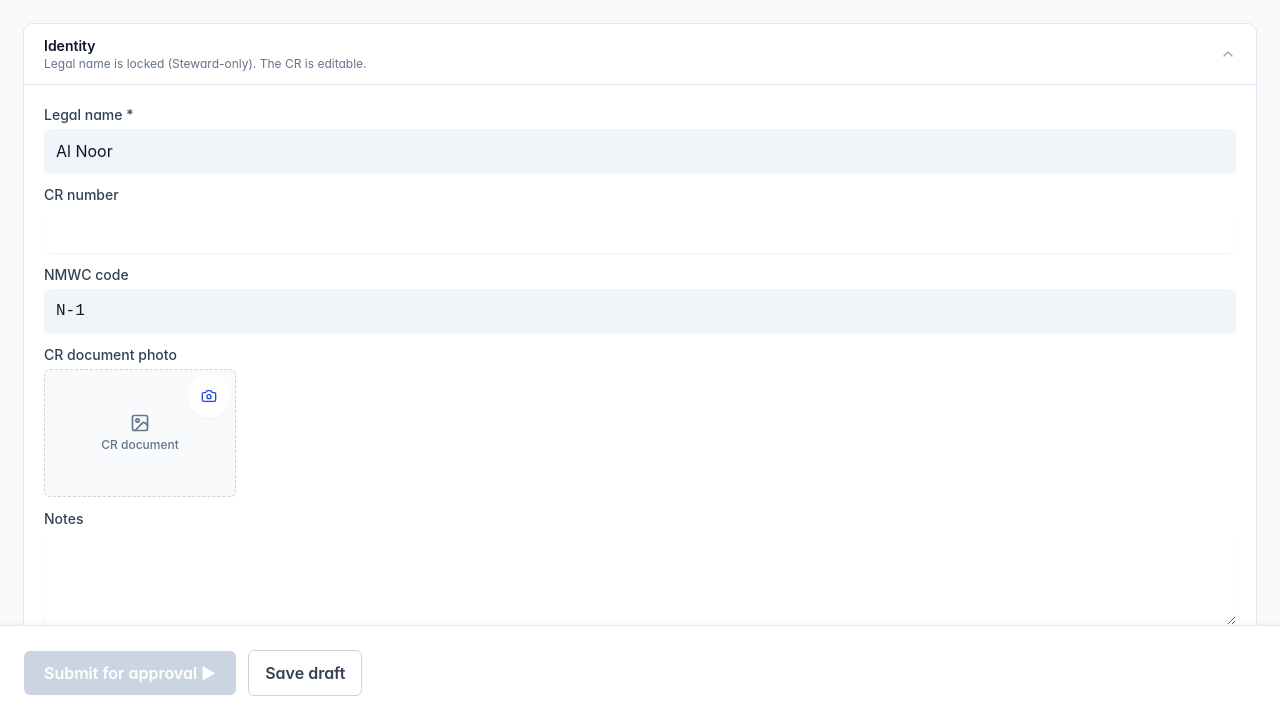
Test: the customer update form › with only a close pending, "Draft saved" promises nothing about replacing it
The image size is (1280, 720).
What coordinates should you click on to do the following:
click the button "Save draft"
I would click on:
 (305, 673)
Its box is [248, 650, 362, 696].
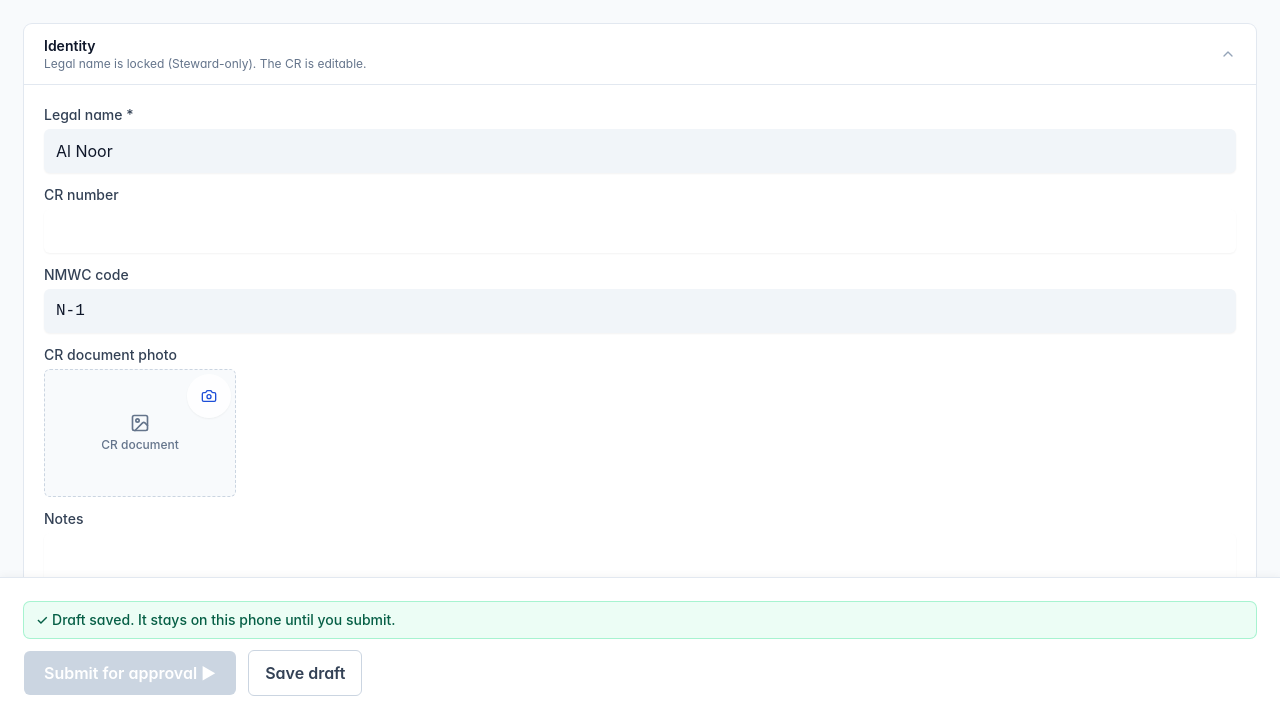
Check: the message reads "✓ Draft saved. It stays on this phone until you submit.", box [36, 611, 396, 628]
